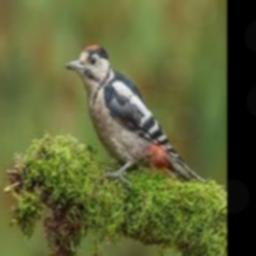Woodpecker: (65, 44, 205, 184)
